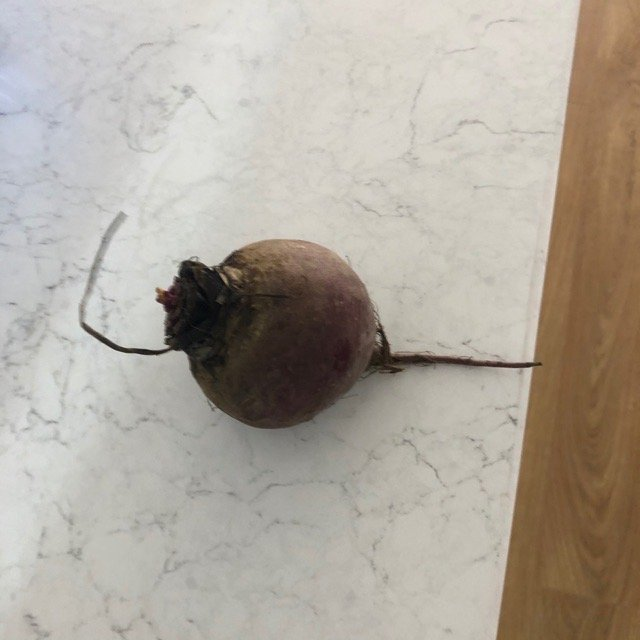beet: (81, 213, 543, 428)
